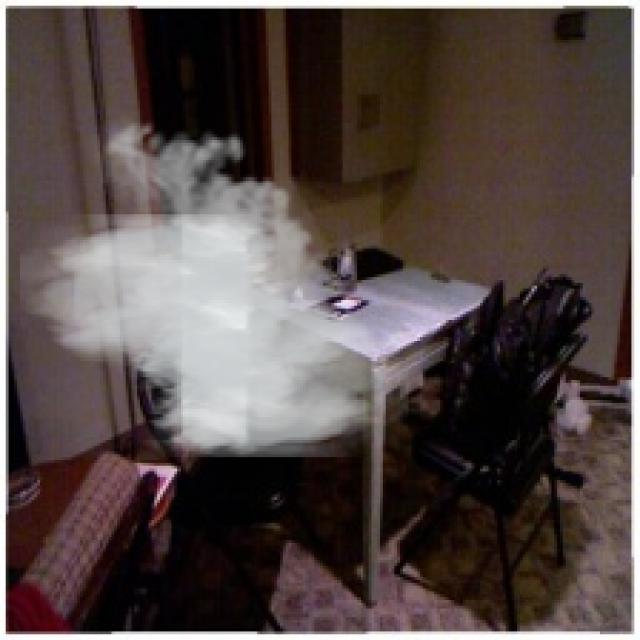smoke: (20, 112, 409, 457)
